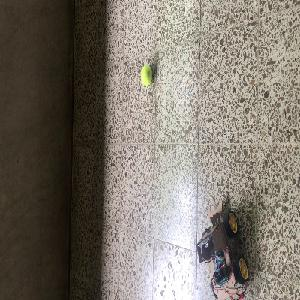Ball: (140, 65, 152, 85)
Robot: (195, 198, 249, 298)
